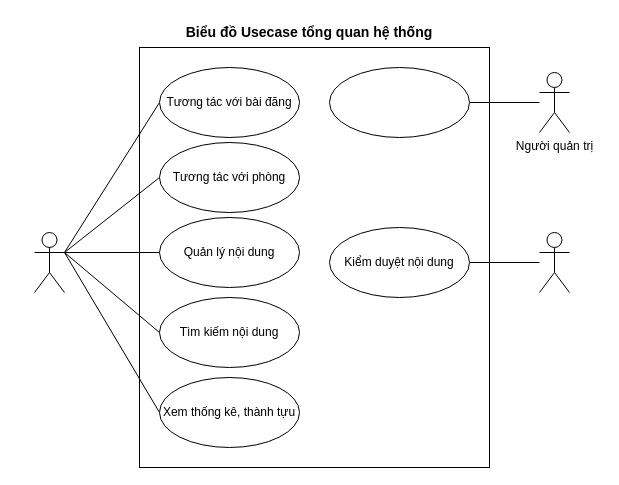
Some shapes in this 619 by 485 pixel diagram are drawn without their labels. Each missing label, with the centre of its shape:
"Người dùng" belongs at point 49,262.
"Người kiểm duyệt" belongs at point 554,262.
"Quản trị hệ thống" belongs at point 399,102.
